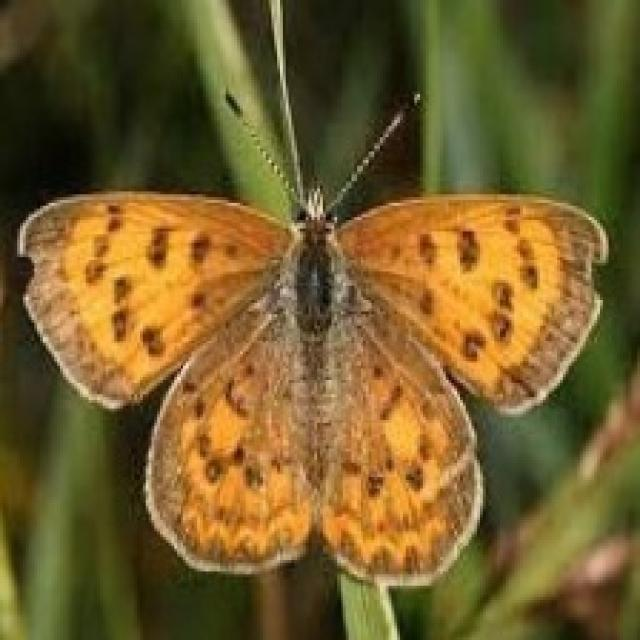butterfly: (14, 0, 609, 586)
